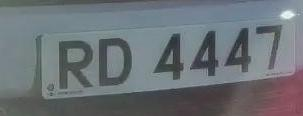4: (149, 26, 189, 88), (221, 21, 258, 82), (187, 24, 224, 84)
7: (251, 20, 291, 74)
D: (92, 32, 138, 92)
R: (52, 35, 99, 94)
